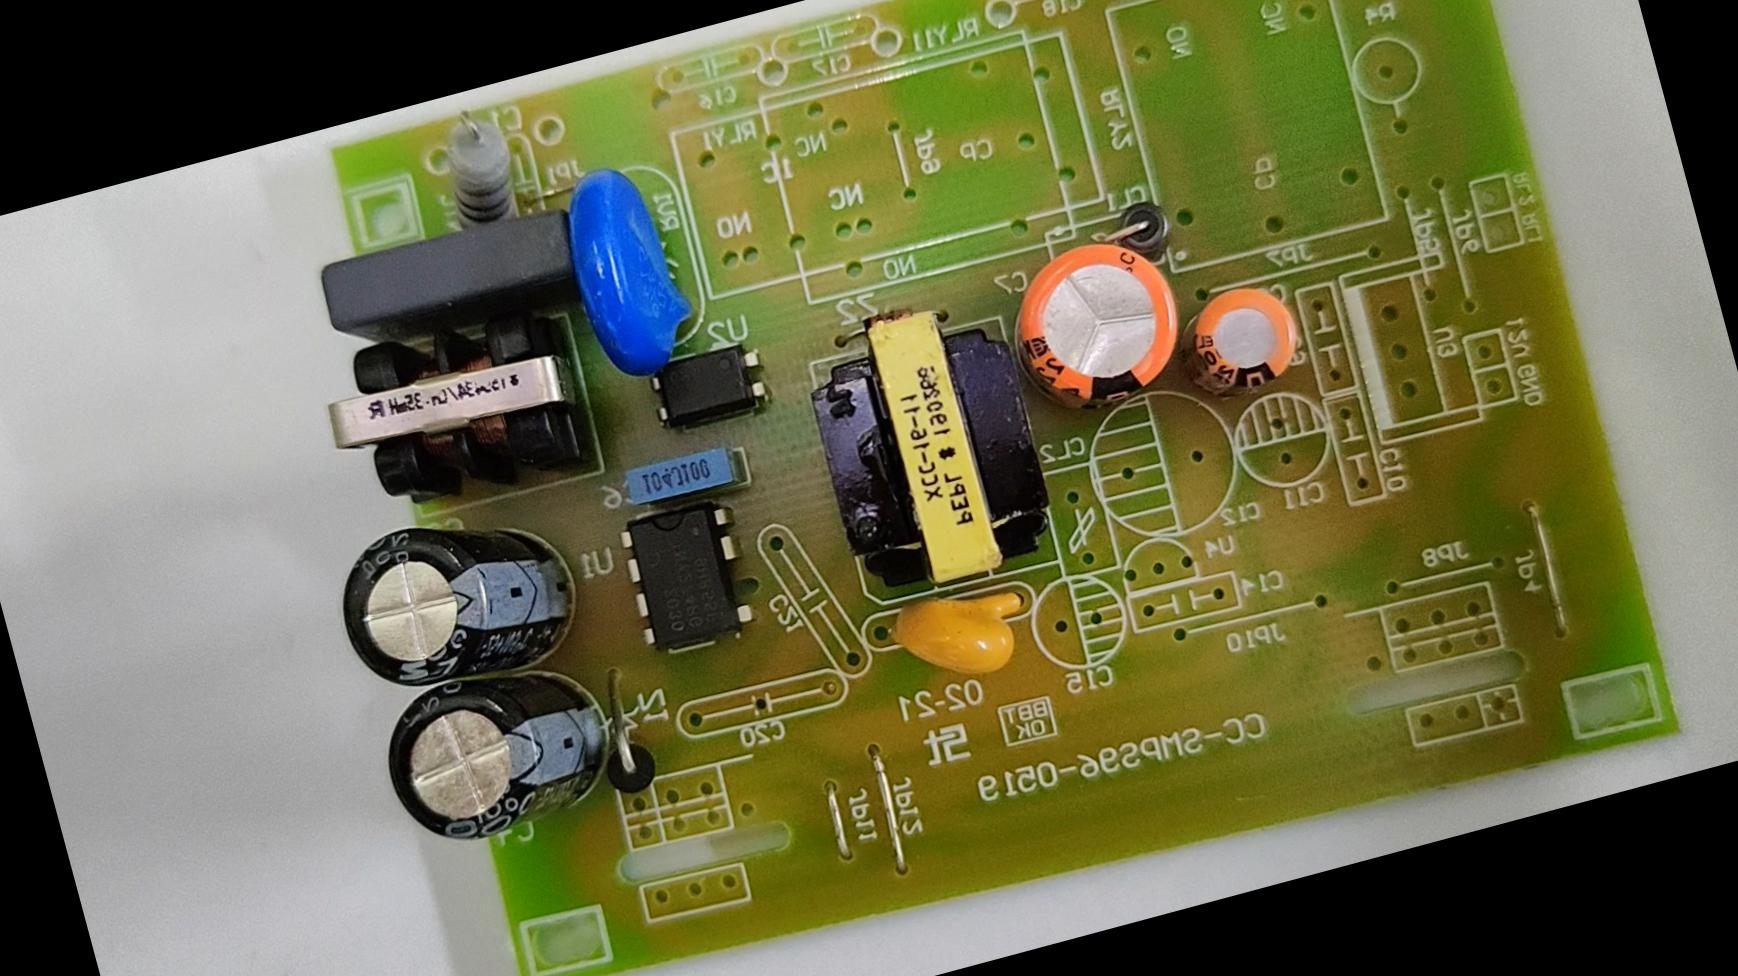Cap1: (994, 220, 1204, 432)
Cap2: (1177, 270, 1315, 410)
Cap3: (314, 483, 593, 714)
Cap4: (353, 647, 635, 867)
MOSFET: (606, 496, 769, 668)
Mov: (543, 148, 711, 393)
Resistor: (426, 100, 535, 236)
Transformer: (783, 279, 1072, 618), (300, 295, 614, 542)
